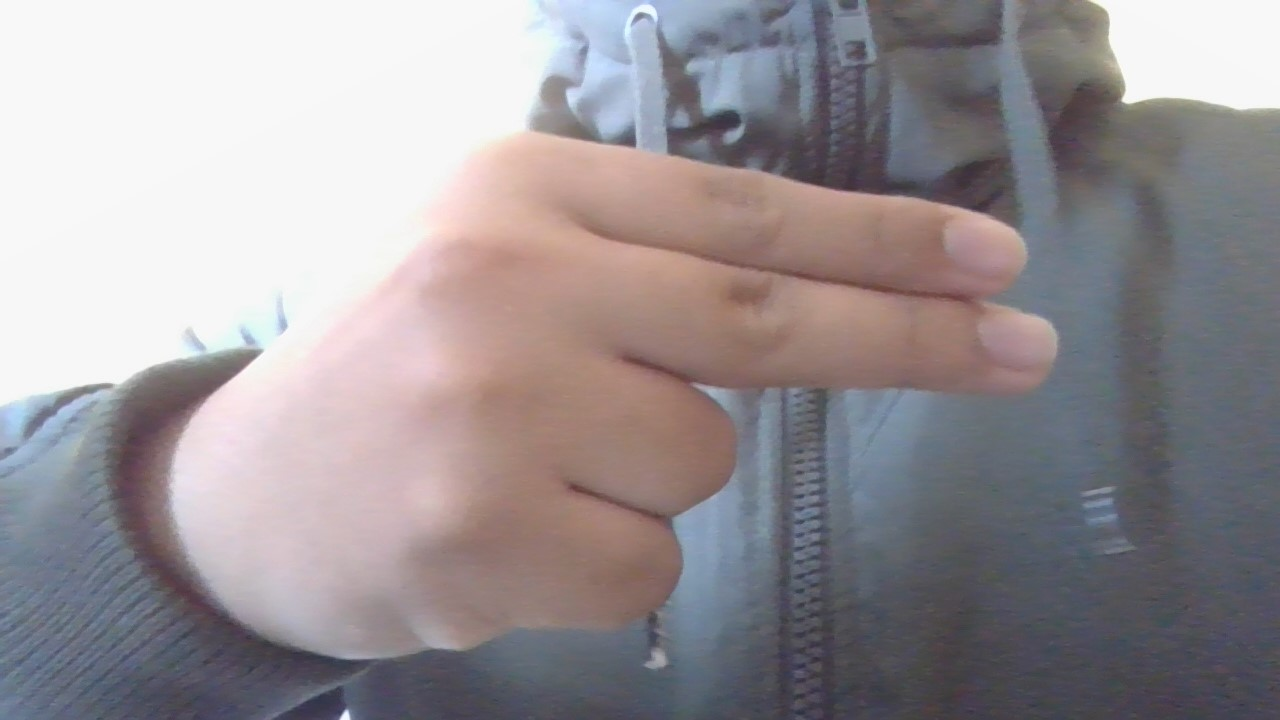h: (101, 96, 1078, 684)
